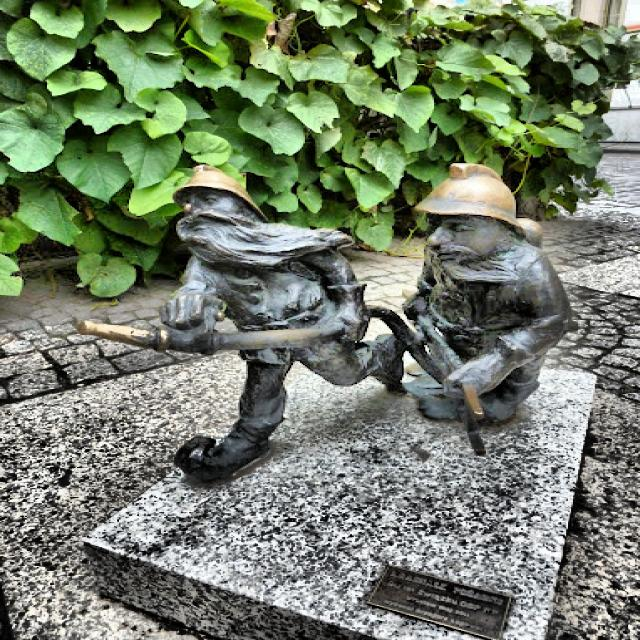Pozarki: (79, 163, 571, 483)
